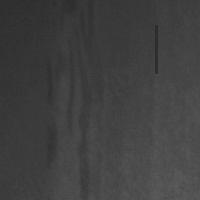inclusion: (67, 1, 98, 198), (42, 52, 64, 170), (154, 23, 158, 75)
